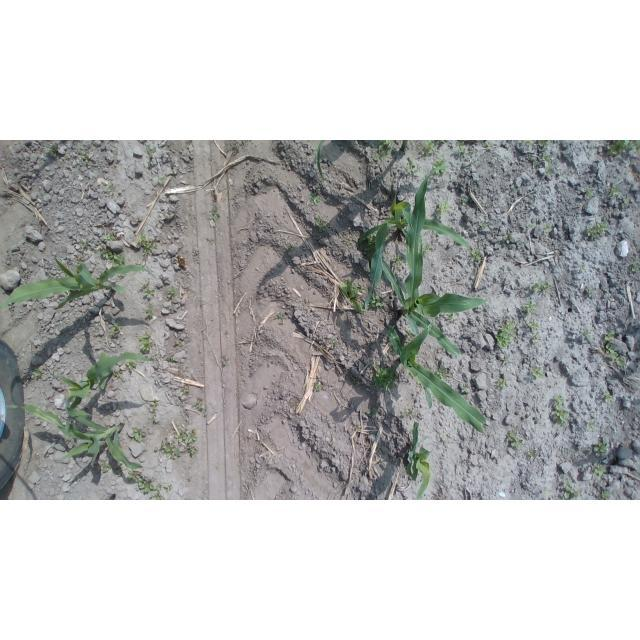Maize: (383, 167, 490, 358), (361, 194, 472, 310), (388, 322, 488, 434), (5, 402, 143, 471), (1, 258, 156, 312), (361, 189, 472, 248), (59, 351, 153, 407), (317, 140, 408, 182), (406, 422, 432, 500)
Weeds: (339, 279, 366, 314), (128, 469, 161, 493), (372, 363, 399, 391), (174, 426, 199, 456), (495, 319, 518, 349), (154, 439, 182, 459), (606, 140, 640, 156), (552, 396, 569, 427), (606, 343, 627, 368), (99, 246, 125, 266), (96, 458, 122, 477), (136, 234, 156, 257), (375, 141, 394, 162), (564, 480, 581, 501), (363, 230, 377, 255), (586, 221, 611, 235), (507, 428, 523, 448), (404, 156, 420, 176), (129, 427, 146, 444), (436, 200, 453, 217), (532, 280, 552, 294), (139, 333, 153, 353), (314, 214, 329, 232), (140, 281, 154, 300), (432, 159, 448, 175), (367, 295, 385, 309), (421, 140, 436, 156), (146, 145, 156, 167), (522, 300, 536, 315), (594, 441, 608, 456), (436, 367, 452, 380), (455, 140, 467, 156), (149, 401, 159, 420), (533, 366, 546, 380), (402, 408, 415, 421), (392, 254, 405, 266), (608, 184, 620, 197), (469, 248, 482, 260), (44, 145, 57, 157), (595, 464, 606, 477), (209, 206, 219, 220), (109, 323, 119, 337), (529, 320, 540, 332), (309, 194, 321, 205), (126, 358, 136, 370), (32, 368, 42, 380), (542, 153, 554, 163), (168, 286, 177, 299), (81, 150, 90, 163), (151, 492, 165, 500), (497, 379, 508, 389), (144, 307, 153, 319), (313, 381, 323, 391), (605, 332, 616, 341), (585, 421, 596, 430), (422, 244, 433, 253), (104, 234, 116, 242), (538, 140, 550, 148), (193, 403, 206, 410), (533, 335, 542, 345), (544, 223, 553, 233), (632, 261, 640, 272), (523, 140, 534, 148), (365, 408, 377, 415), (108, 180, 115, 192), (602, 491, 611, 500), (604, 393, 612, 403), (344, 239, 354, 247), (351, 379, 362, 386), (405, 331, 413, 340), (584, 332, 592, 341), (528, 452, 537, 460), (80, 240, 89, 248), (544, 167, 552, 176), (112, 371, 122, 378), (285, 243, 293, 251), (221, 357, 229, 365), (182, 388, 190, 396), (164, 484, 172, 492), (585, 188, 592, 197), (504, 235, 511, 244), (448, 313, 455, 321), (329, 340, 335, 349), (478, 223, 485, 230), (160, 176, 166, 184), (543, 489, 551, 495), (185, 477, 191, 484), (168, 356, 175, 362), (533, 159, 538, 167), (462, 197, 467, 205), (461, 388, 468, 393), (503, 359, 509, 364), (588, 292, 593, 297), (176, 340, 181, 345), (528, 224, 533, 229), (554, 497, 562, 500), (444, 438, 450, 442), (439, 140, 445, 144), (484, 142, 488, 147), (622, 198, 626, 202), (471, 160, 475, 164), (580, 268, 584, 271), (172, 172, 177, 174)
